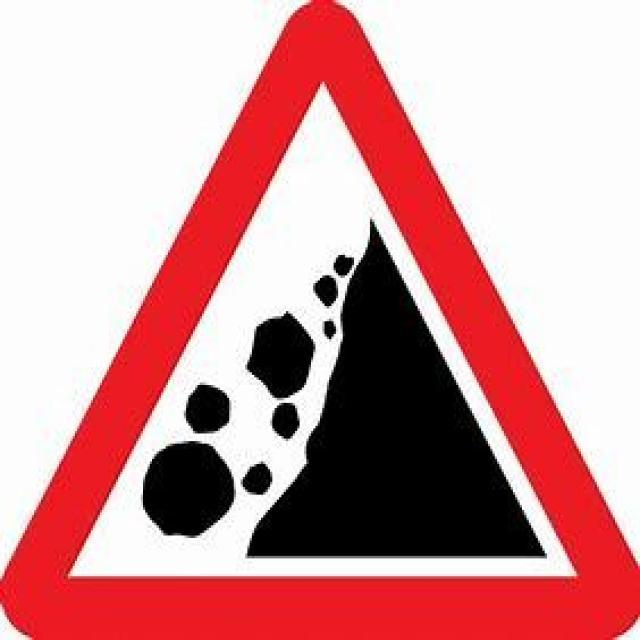falling rocks: (14, 20, 627, 624)
